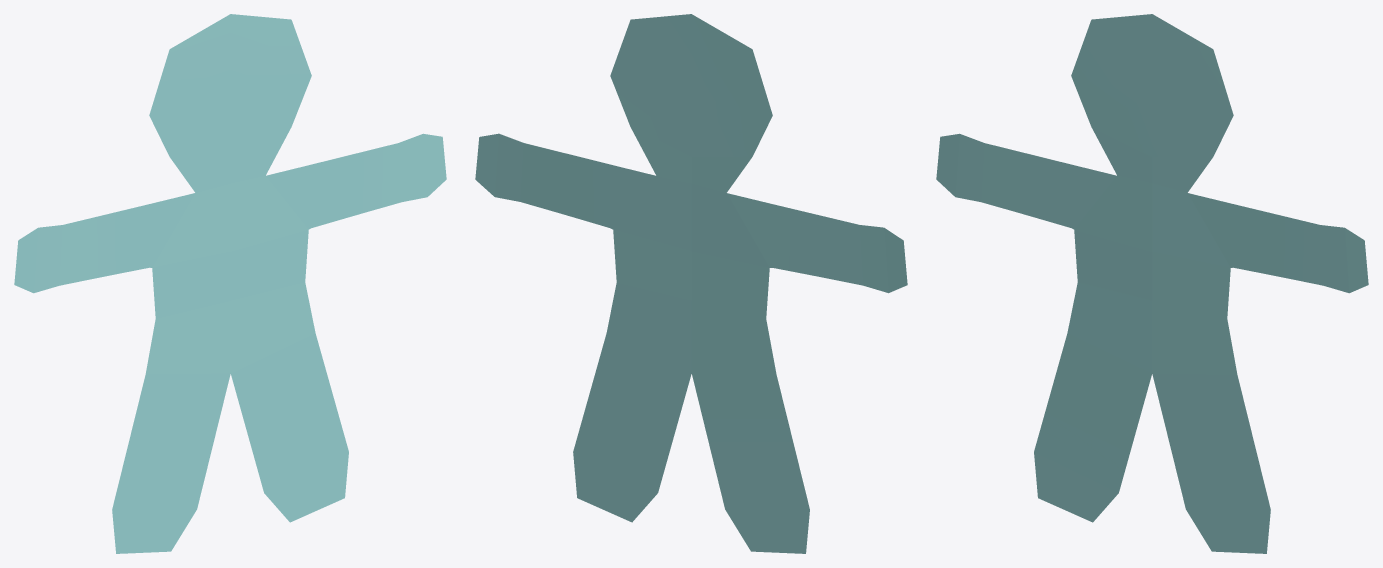
Rendered from personajePrincipal.FBX.
3 renders of one model, left to right at view 1: azimuth 30°, elevation 25°; view 2: azimuth 150°, elevation 25°; view 3: azimuth 330°, elevation 25°, orthographic.
Visible parts, largest first — view 1: Object001; view 2: Object001; view 3: Object001.
Part boxes in pixels (x1,y1,x2,y2): Object001: (14, 14, 446, 553); Object001: (475, 14, 907, 553); Object001: (936, 14, 1368, 553).
Size of the model in its own units: 91.14 by 105 by 0.1105.
